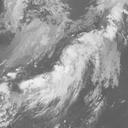cyclone: (47, 49, 93, 94)
